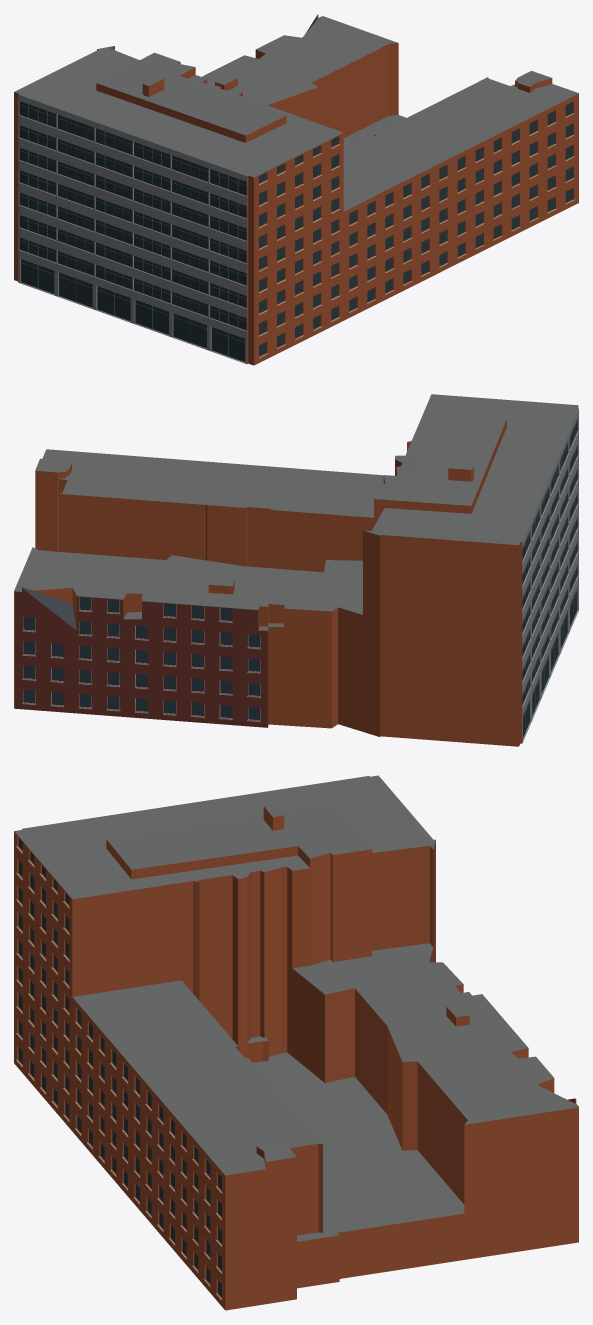
The model's file is recipe-large-tilanusstraat-23-240319.glb.
3 views of the same model, one above another, from view 1: azimuth 30°, elevation 25°; view 2: azimuth 150°, elevation 25°; view 3: azimuth 270°, elevation 25° (orthographic). The views are drawn at different scales.
Parts seen in each view (by area): view 1: tilanusstraat-23-240319; view 2: tilanusstraat-23-240319; view 3: tilanusstraat-23-240319.
Boxes of the visible parts, bbox=[...] form: tilanusstraat-23-240319: bbox=[14, 14, 578, 365]; tilanusstraat-23-240319: bbox=[14, 394, 578, 746]; tilanusstraat-23-240319: bbox=[14, 775, 578, 1310].
Size of the model in its own units: 89.28 by 35.04 by 70.36.
